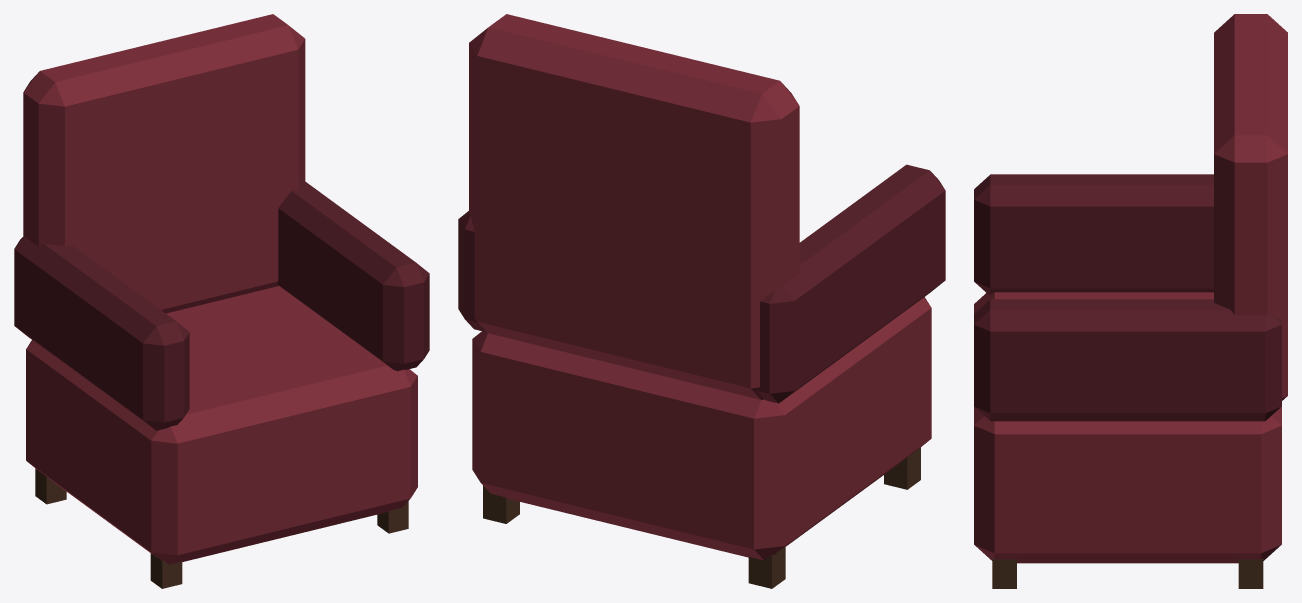
File: armchair.glb
3 views of the same model, side by side, from view 1: azimuth 30°, elevation 25°; view 2: azimuth 150°, elevation 25°; view 3: azimuth 270°, elevation 25° (orthographic). The views are drawn at different scales.
Parts seen in each view (by area): view 1: armchair; view 2: armchair; view 3: armchair.
Boxes of the visible parts, <box> form: armchair: <box>14,14,429,588</box>; armchair: <box>458,14,945,588</box>; armchair: <box>974,14,1287,588</box>.
Size of the model in its own units: 0.86 by 1.21 by 0.765.
